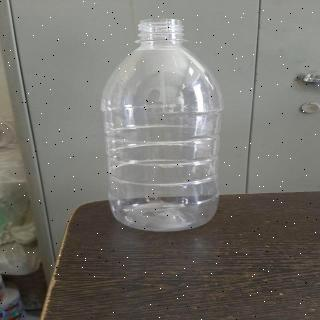Plastic-bottle: (95, 17, 237, 239)
